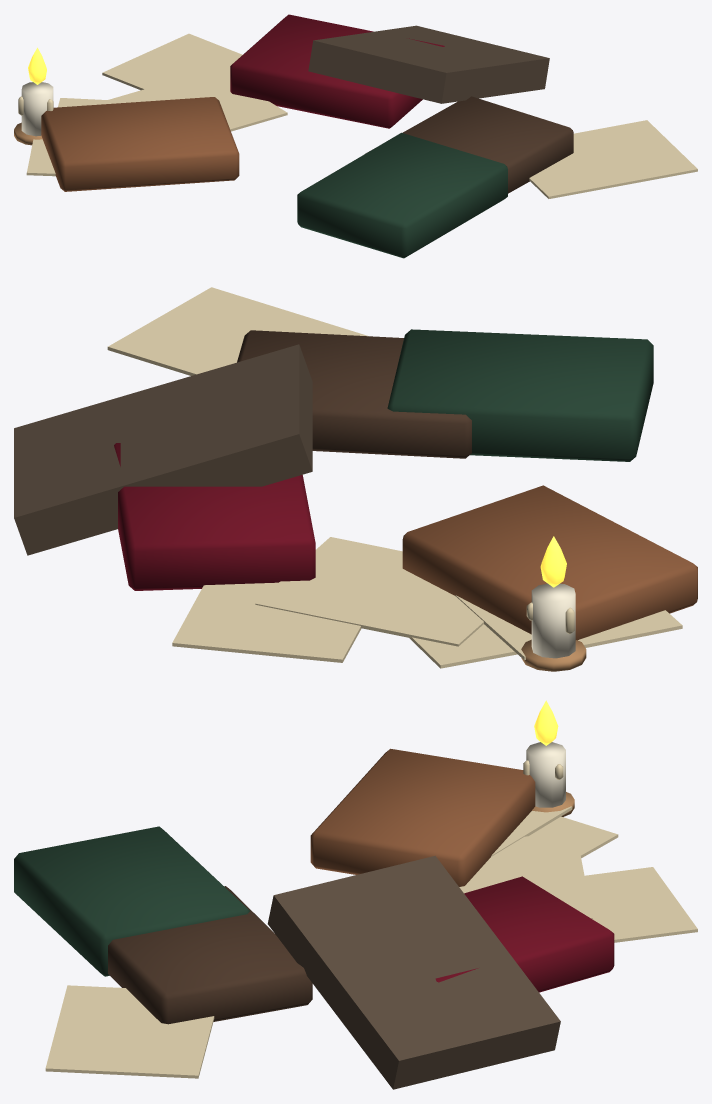
File: floor_books.glb
3 renders of one model, top to bottom at view 1: azimuth 30°, elevation 25°; view 2: azimuth 150°, elevation 25°; view 3: azimuth 270°, elevation 25°, orthographic. The views are drawn at different scales.
Parts seen in each view (by area): view 1: floor_books; view 2: floor_books; view 3: floor_books.
Boxes of the visible parts, bbox=[...] form: floor_books: bbox=[14, 14, 697, 258]; floor_books: bbox=[14, 287, 697, 671]; floor_books: bbox=[14, 700, 697, 1089].
Size of the model in its own units: 0.6611 by 0.1267 by 0.6222.
